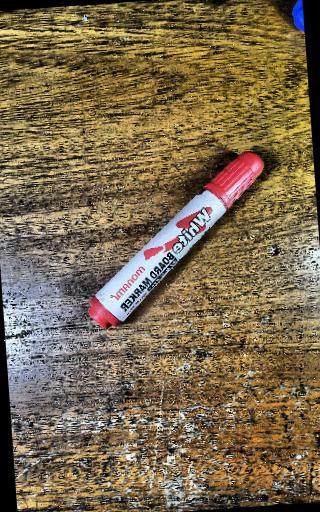marcador rojo: (89, 151, 263, 328)
